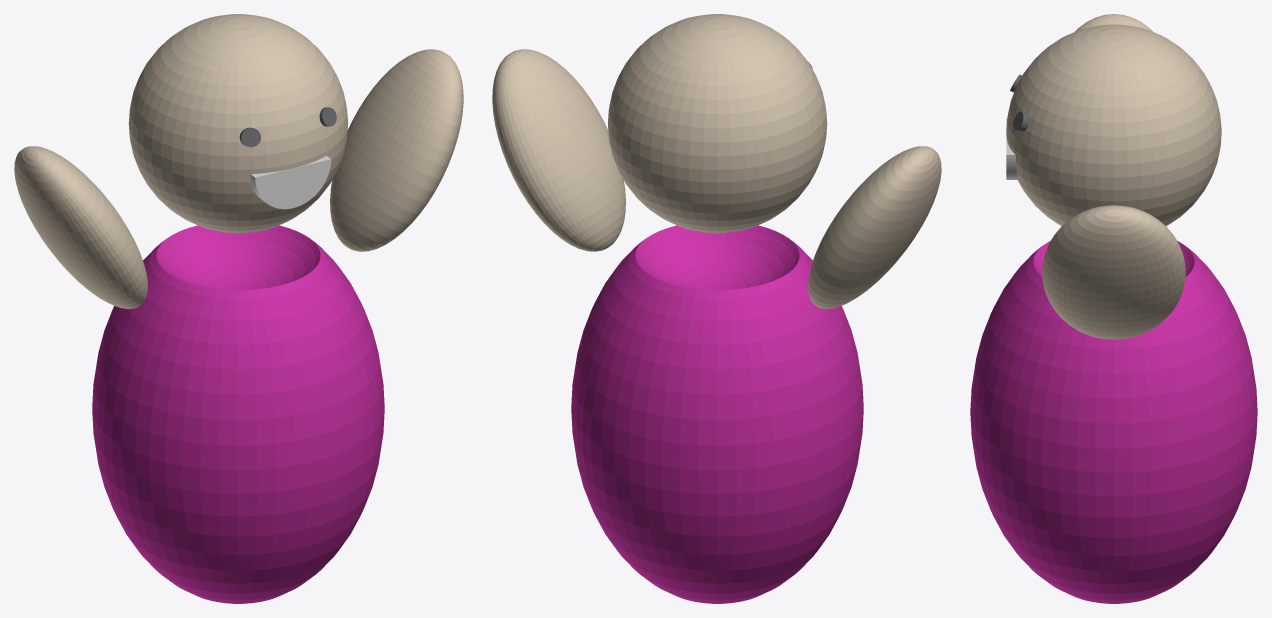
Rendered from purple.glb.
The picture shows the model from 3 angles, left to right: view 1: azimuth 30°, elevation 25°; view 2: azimuth 150°, elevation 25°; view 3: azimuth 270°, elevation 25°; orthographic projection.
Parts seen in each view (by area): view 1: Mesh_Mesh_head_geo.001_lambert2SG.001; view 2: Mesh_Mesh_head_geo.001_lambert2SG.001; view 3: Mesh_Mesh_head_geo.001_lambert2SG.001.
Part boxes in pixels (left/top/right/bottom): Mesh_Mesh_head_geo.001_lambert2SG.001: left=14, top=14, right=463, bottom=603; Mesh_Mesh_head_geo.001_lambert2SG.001: left=492, top=14, right=941, bottom=603; Mesh_Mesh_head_geo.001_lambert2SG.001: left=970, top=14, right=1257, bottom=603.
Bounding box in the file's own units: 33.75 × 43 × 20.
